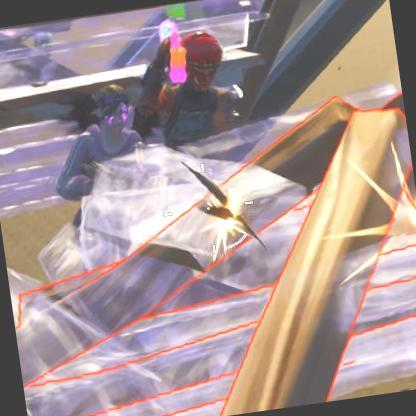person: (121, 24, 249, 153), (74, 98, 136, 212)
